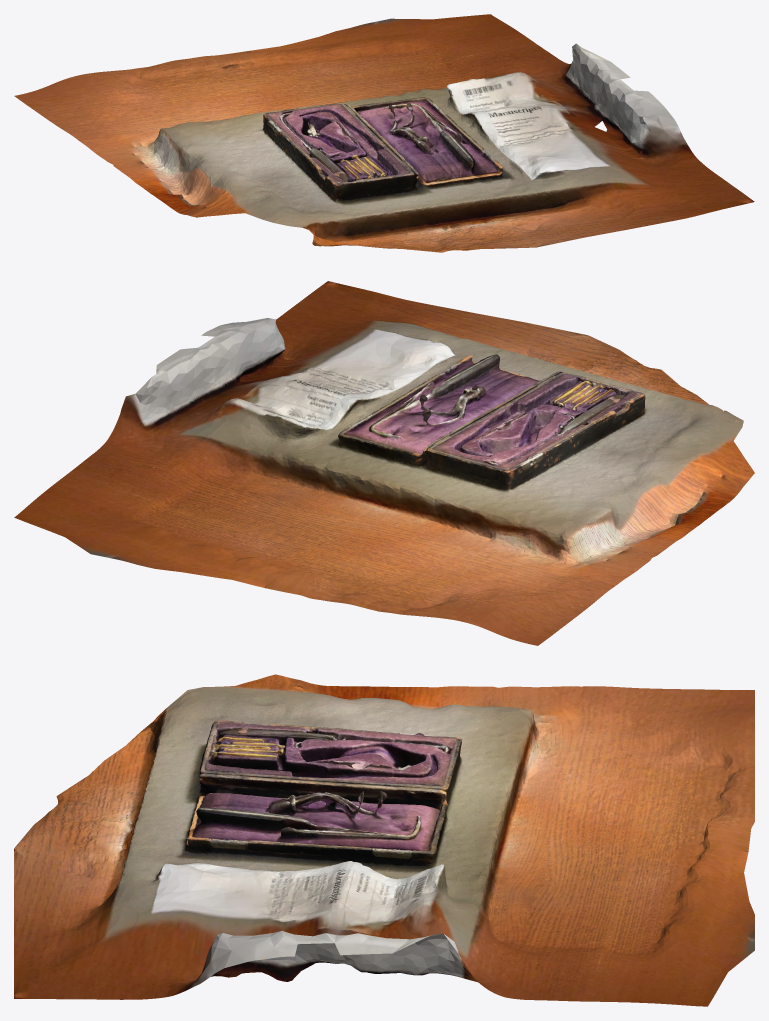
The model's file is scan03.glb.
3 views of the same model, one above another, from view 1: azimuth 30°, elevation 25°; view 2: azimuth 150°, elevation 25°; view 3: azimuth 270°, elevation 25° (orthographic). The views are drawn at different scales.
Size of the model in its own units: 1.88 by 0.234 by 2.
Materials: 1 (1 with a texture image).
